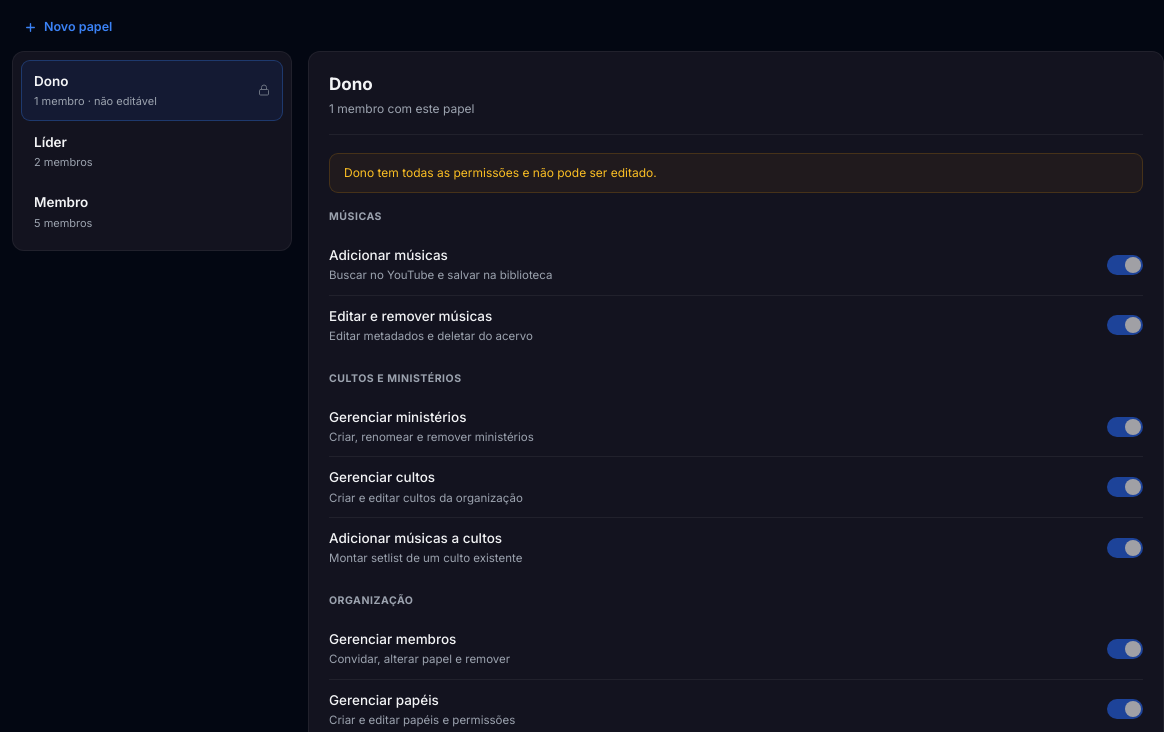
OrgRoles › deletar papel com membros exibe erro inline sem abrir confirmação
Step 1. Click the text "Líder" → (50, 142), box x1=34 y1=134 x2=67 y2=150
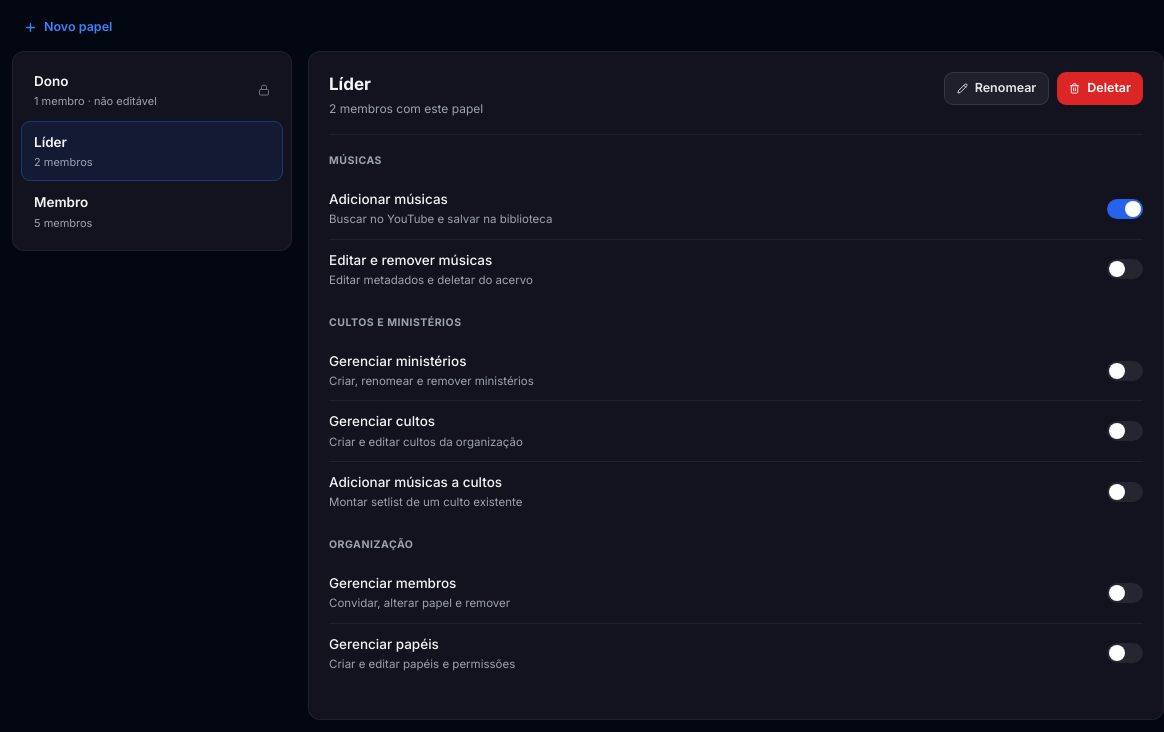
Check: the button "Deletar" is shown
Step 2. Click the button "Deletar" → (1100, 88), box x1=1057 y1=72 x2=1143 y2=105
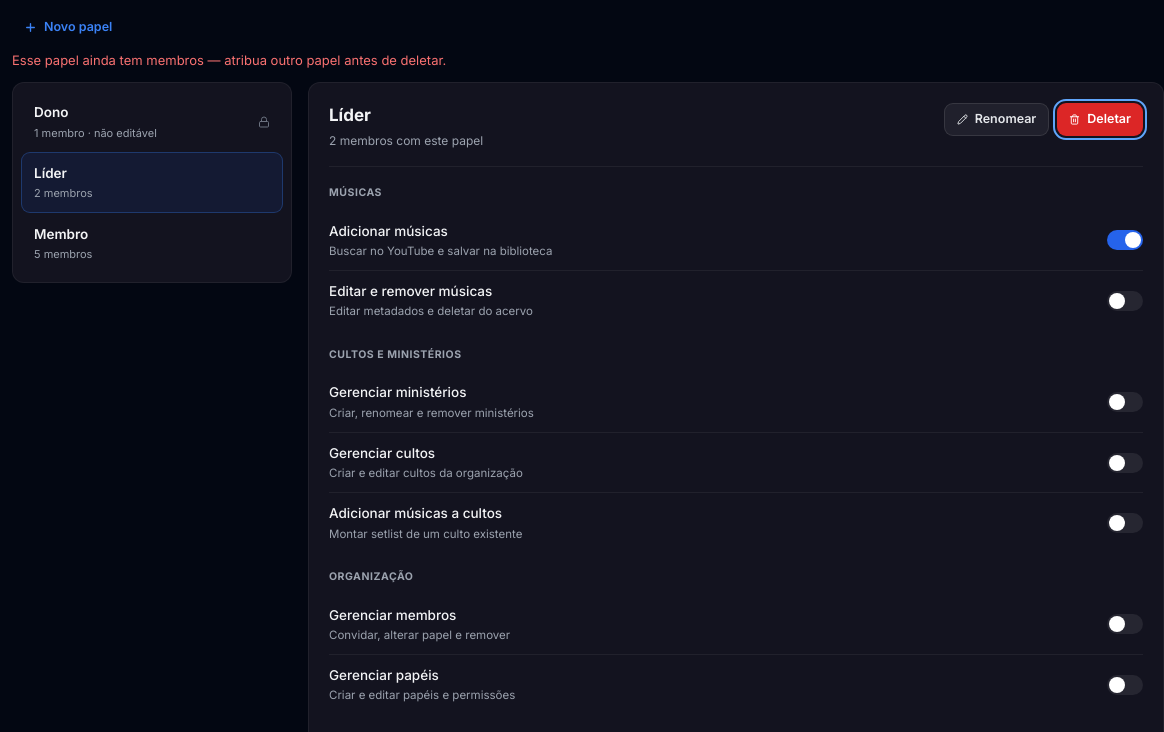
Check: the text "ainda tem membros" is shown, box x1=12 y1=52 x2=446 y2=68
